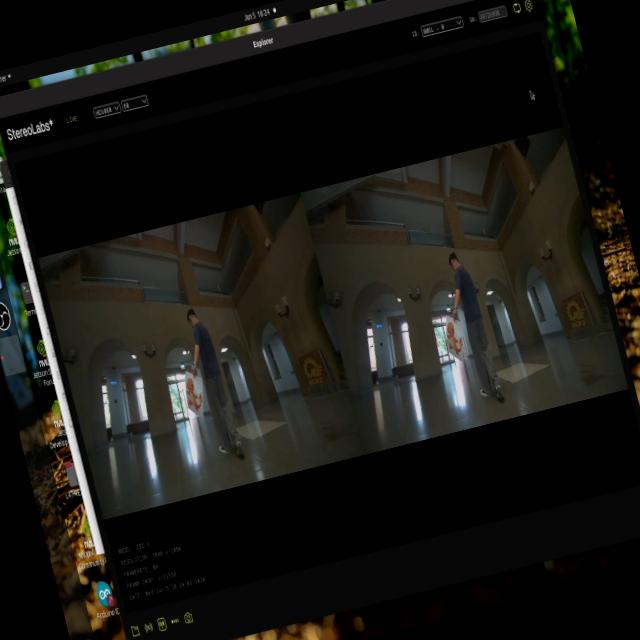red: (436, 317, 474, 362), (180, 376, 204, 420)
